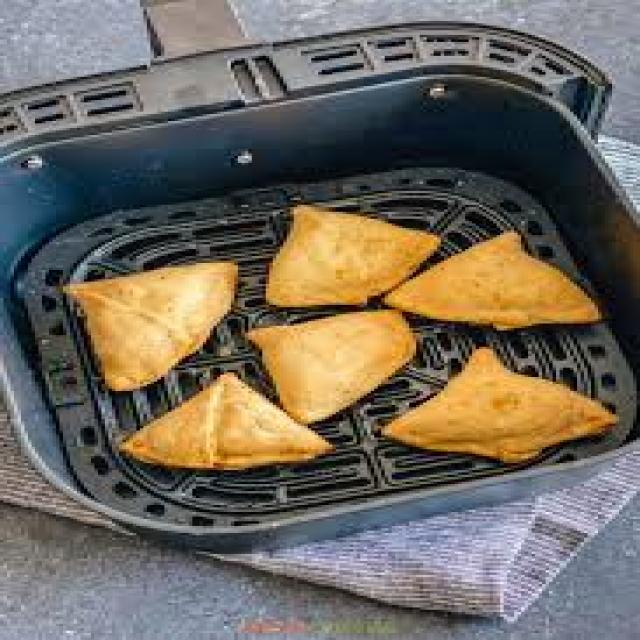SAMOSA: (381, 347, 612, 461), (66, 263, 234, 389), (385, 230, 598, 328), (122, 372, 329, 468), (248, 310, 413, 424), (269, 205, 437, 303)
